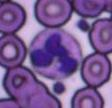N: (29, 28, 82, 78)
